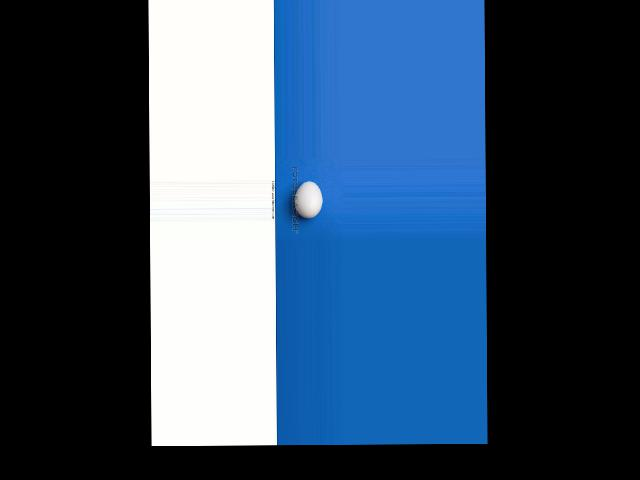egg: (293, 181, 322, 218)
